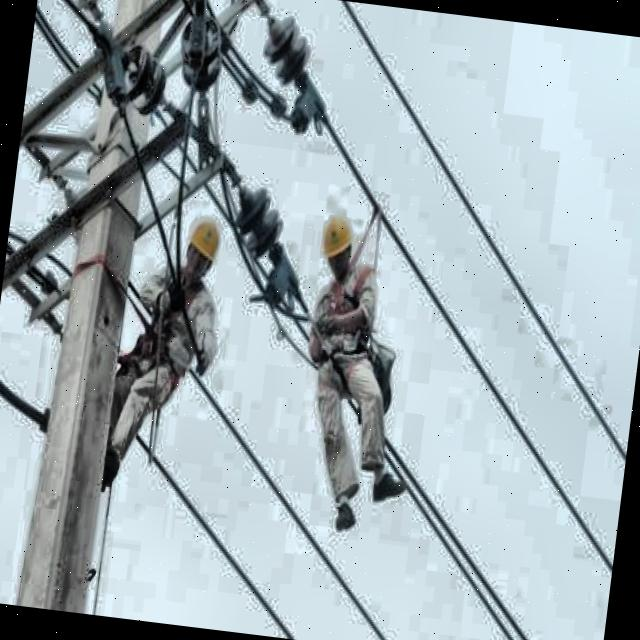helmet: (178, 214, 226, 290), (316, 206, 358, 277)
